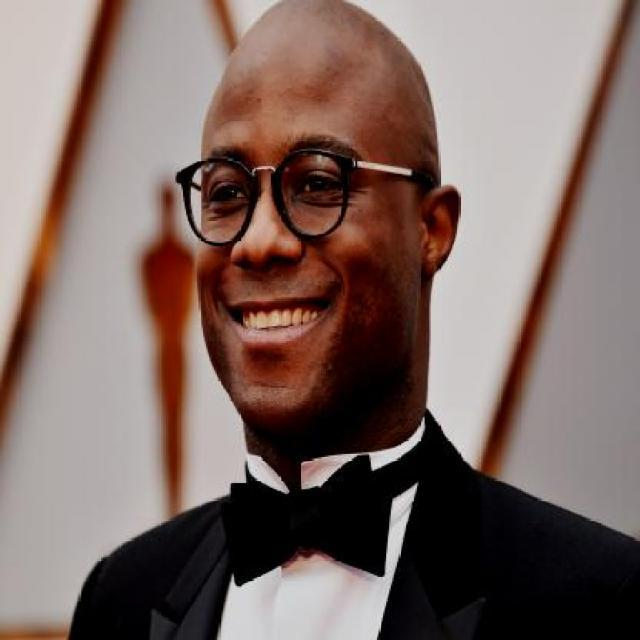glasses: (168, 142, 366, 256)
